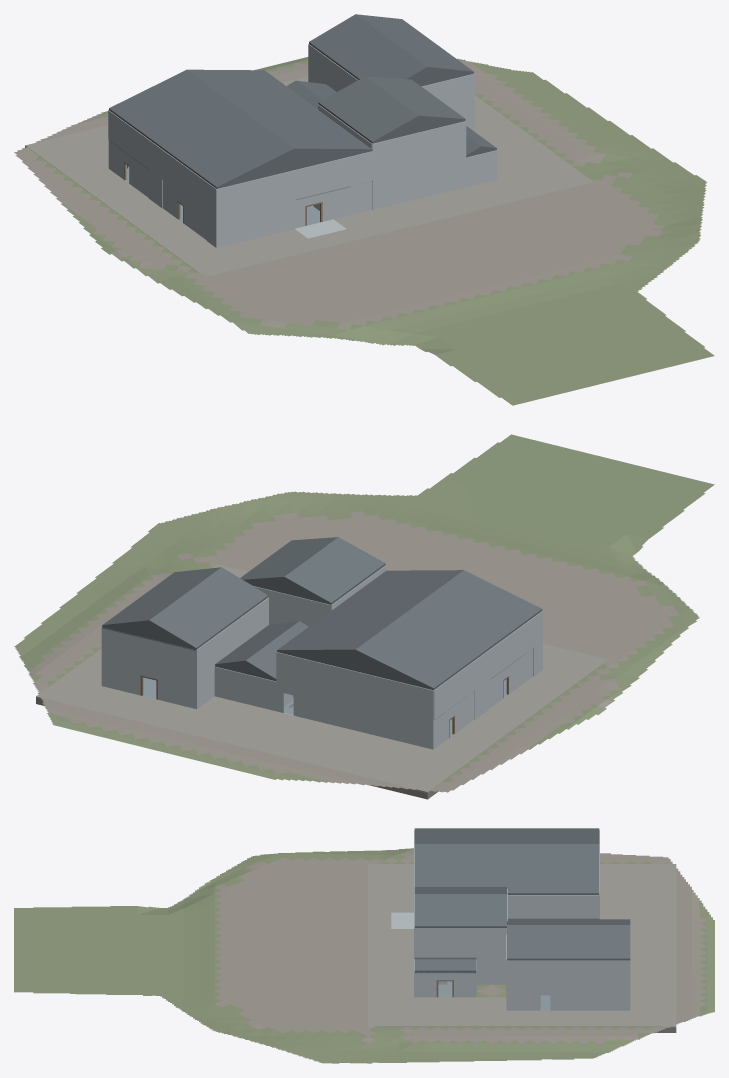
The model's file is saved-earthworks.glb.
The picture shows the model from 3 angles, top to bottom: view 1: azimuth 30°, elevation 25°; view 2: azimuth 150°, elevation 25°; view 3: azimuth 270°, elevation 25°; orthographic projection. The views are drawn at different scales.
Visible parts, largest first — view 1: Saved editor geographic earthworks SCHOOL, teaching roof west, SCHOOL south school forecourt pavement region0, teaching roof east, gym roof west, SCHOOL west teaching-room court pavement region0, Wall assembly S, assembly roof west, SCHOOL east receiving and gym service court pavement region0, SCHOOL north school playground pavement region0, Wall library S, Wall class-a-store S (+14 smaller); view 2: Saved editor geographic earthworks SCHOOL, SCHOOL north school playground pavement region0, teaching roof west, teaching roof east, gym roof west, SCHOOL west teaching-room court pavement region0, assembly roof west, Wall science N, Wall class-b N, gym roof east, SCHOOL court-door gym N pier0, SCHOOL court-door gym N end (+19 smaller); view 3: Saved editor geographic earthworks SCHOOL, SCHOOL north school playground pavement region0, teaching roof east, SCHOOL south school forecourt pavement region0, Flat route shell Wall gym E, SCHOOL east receiving and gym service court pavement region0, gym roof east, assembly roof east, teaching roof west, Wall assembly E, Wall wash-a E, Wall wash-b E (+7 smaller).
Boxes of the visible parts, x1=… form: Saved editor geographic earthworks SCHOOL: x1=14, y1=57, x2=714, y2=405; teaching roof west: x1=109, y1=69, x2=294, y2=188; SCHOOL south school forecourt pavement region0: x1=178, y1=162, x2=593, y2=276; teaching roof east: x1=187, y1=69, x2=372, y2=150; gym roof west: x1=309, y1=14, x2=427, y2=79; SCHOOL west teaching-room court pavement region0: x1=70, y1=169, x2=215, y2=257; Wall assembly S: x1=372, y1=121, x2=465, y2=180; assembly roof west: x1=318, y1=76, x2=418, y2=143; SCHOOL east receiving and gym service court pavement region0: x1=474, y1=95, x2=566, y2=179; SCHOOL north school playground pavement region0: x1=25, y1=76, x2=308, y2=178; Wall library S: x1=216, y1=170, x2=294, y2=218; Wall class-a-store S: x1=216, y1=200, x2=294, y2=247; Saved editor geographic earthworks SCHOOL: x1=14, y1=434, x2=714, y2=792; SCHOOL north school playground pavement region0: x1=36, y1=663, x2=472, y2=793; teaching roof west: x1=355, y1=570, x2=542, y2=689; teaching roof east: x1=277, y1=570, x2=463, y2=651; gym roof west: x1=149, y1=567, x2=268, y2=649; SCHOOL west teaching-room court pavement region0: x1=434, y1=670, x2=581, y2=758; assembly roof west: x1=284, y1=537, x2=385, y2=604; Wall science N: x1=355, y1=701, x2=434, y2=749; Wall class-b N: x1=355, y1=671, x2=433, y2=719; gym roof east: x1=102, y1=567, x2=220, y2=626; SCHOOL court-door gym N pier0: x1=158, y1=641, x2=196, y2=708; SCHOOL court-door gym N end: x1=102, y1=628, x2=140, y2=695; Saved editor geographic earthworks SCHOOL: x1=14, y1=848, x2=714, y2=1063; SCHOOL north school playground pavement region0: x1=599, y1=864, x2=676, y2=1027; teaching roof east: x1=414, y1=844, x2=599, y2=894; SCHOOL south school forecourt pavement region0: x1=368, y1=864, x2=414, y2=1026; Flat route shell Wall gym E: x1=507, y1=960, x2=630, y2=1010; SCHOOL east receiving and gym service court pavement region0: x1=414, y1=997, x2=599, y2=1026; gym roof east: x1=507, y1=925, x2=630, y2=959; assembly roof east: x1=414, y1=894, x2=506, y2=927; teaching roof west: x1=414, y1=828, x2=599, y2=843; Wall assembly E: x1=414, y1=928, x2=506, y2=959; Wall wash-a E: x1=561, y1=895, x2=599, y2=918; Wall wash-b E: x1=522, y1=895, x2=560, y2=918.
Bounding box in the file's own units: 67 × 13.3 × 91.
Materials: 30 (18 with a texture image).
